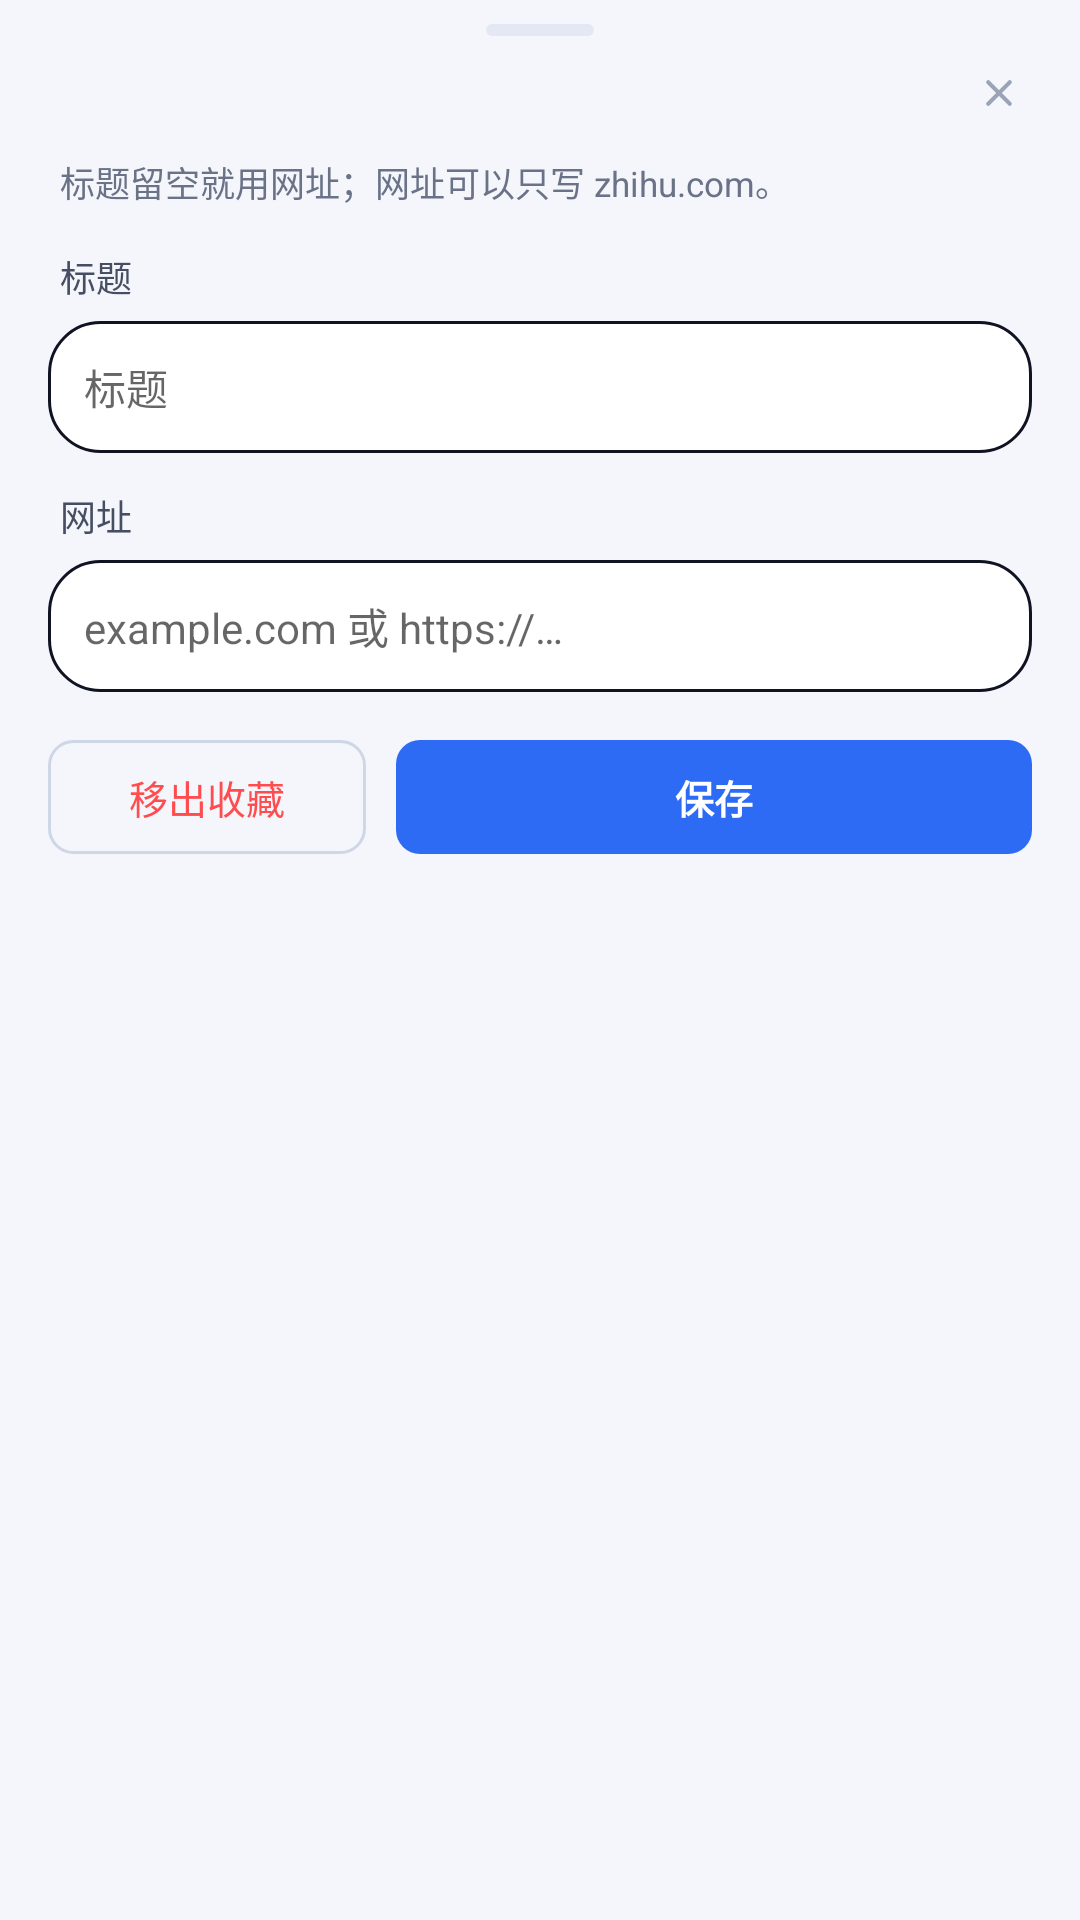

Point at icon controls on the screen. Image size 1080px×1920px, points as [x,y].
关闭: [999,93]
